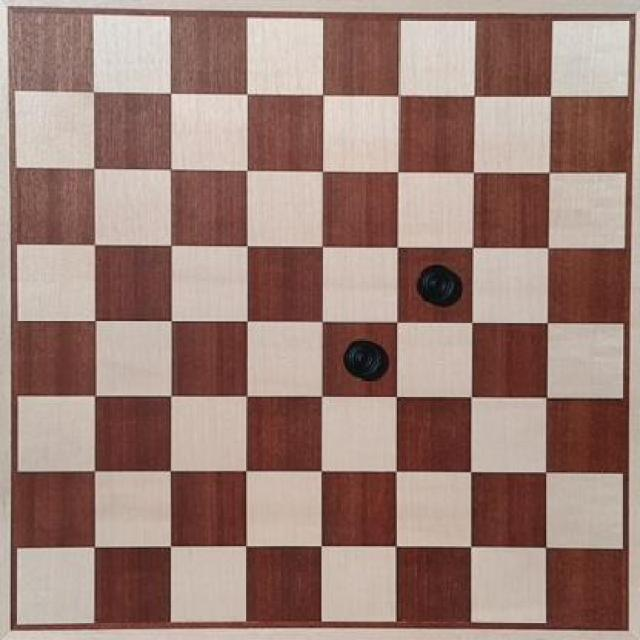BOARD: (11, 8, 625, 631)
black: (394, 255, 468, 317), (328, 327, 397, 390)
